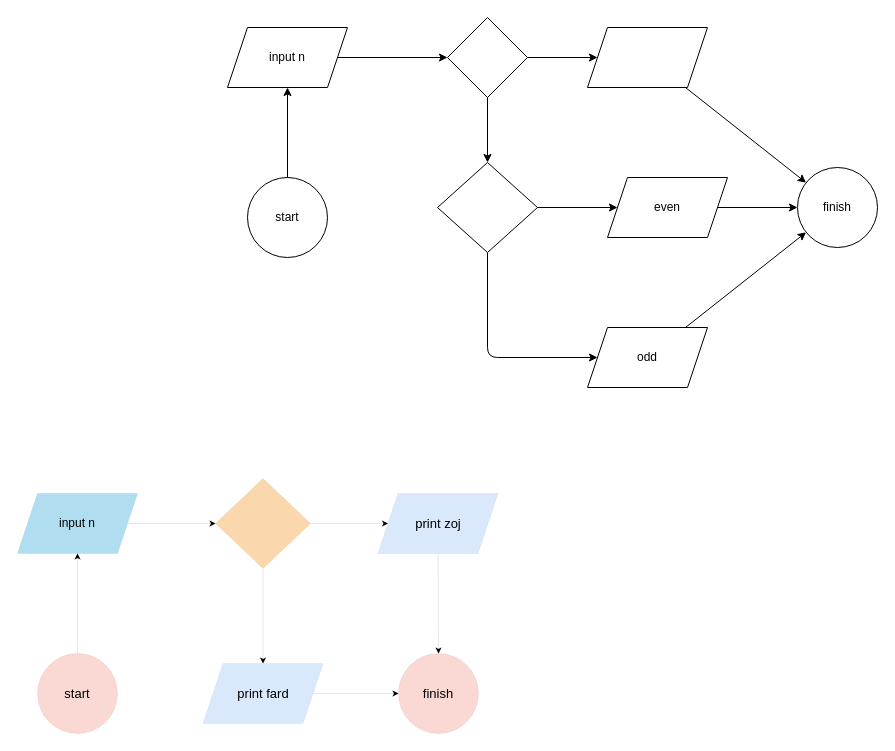
This 895x751 diagram has some shape labels left out. The box of each missing label's shape, as (x1, y1, x2, y2) in pixels:
if n % 2 = 0: (436, 162, 538, 252)
if n = 0: (446, 16, 528, 98)
n % 2 = 0: (215, 478, 310, 568)
zero: (586, 26, 708, 88)
